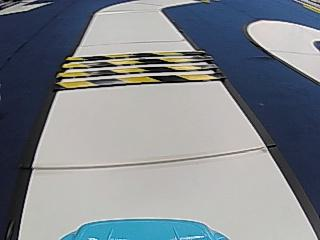bump: (47, 47, 232, 94)
